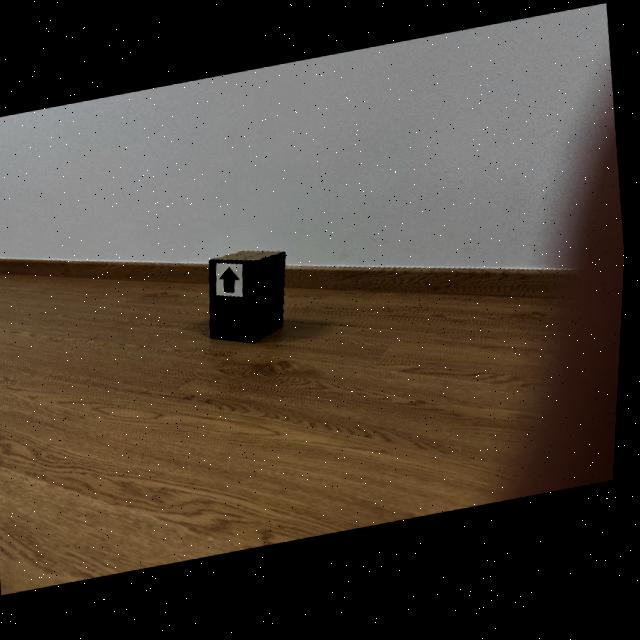UP: (222, 270, 243, 296)
